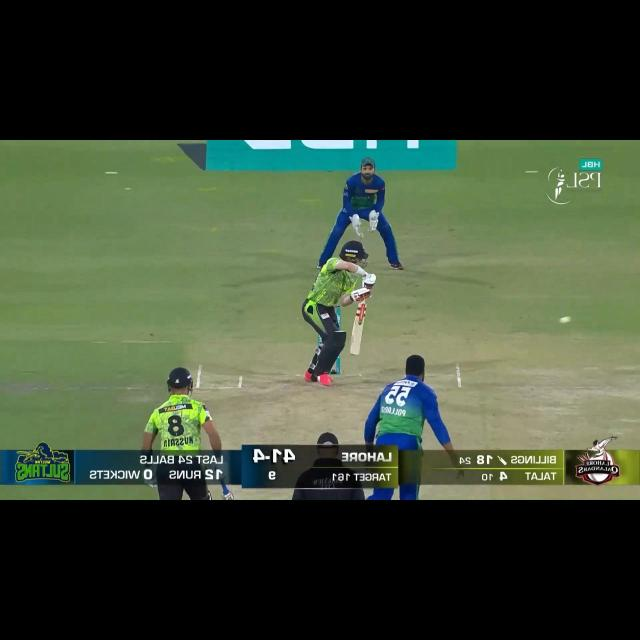bat: (350, 302, 369, 360)
toe: (347, 346, 363, 359)
